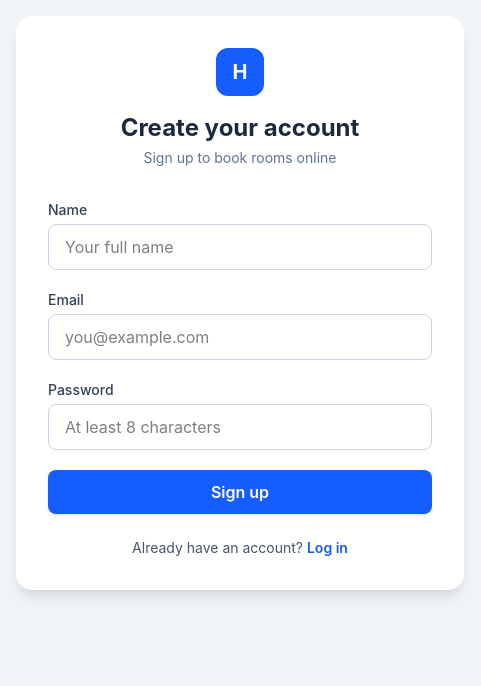
it: RegisterPage › shows the error from the backend
Type "Test User" into the field with placeholder "Your full name" at (240, 247), box [48,224,432,270]
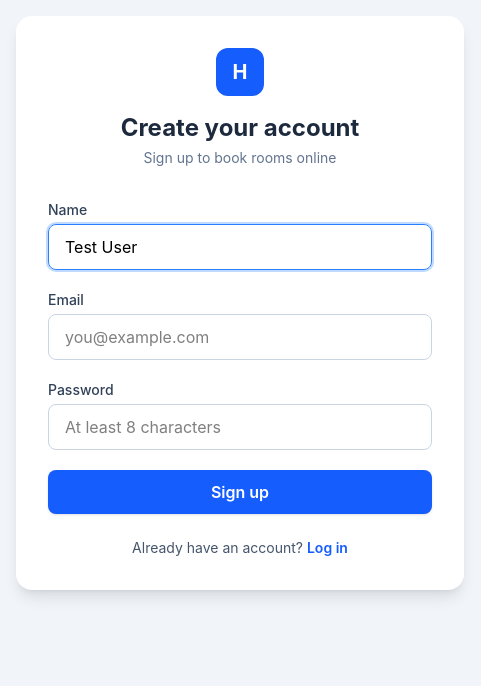
Type "test@example.com" into the field with placeholder "you@example.com" at (240, 337), box [48,314,432,360]
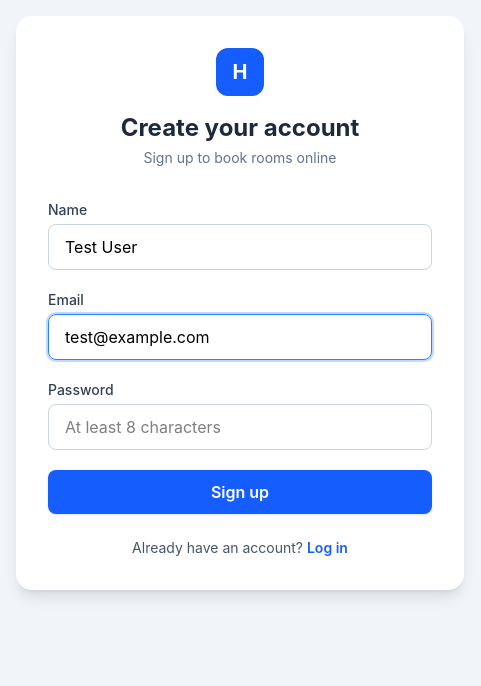
Type "strong-password" into the password field with placeholder "At least 8 characters" at (240, 427), box [48,404,432,450]
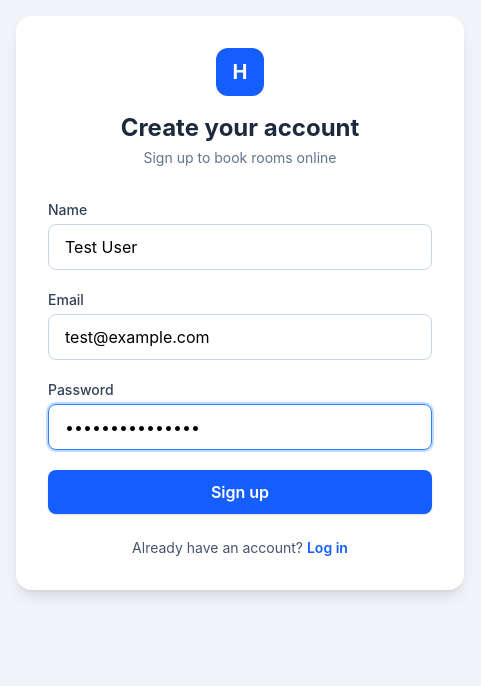
Click the button "Sign up" at (240, 492), box [48,470,432,514]
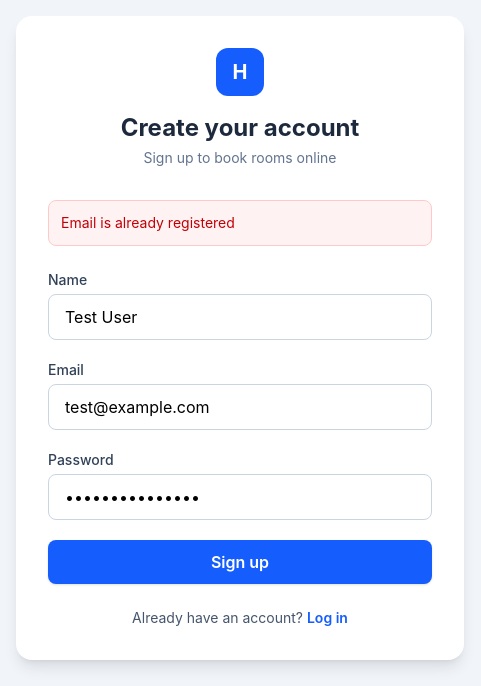
Expected: the text "Email is already registered" is shown, [48,200,432,246]
